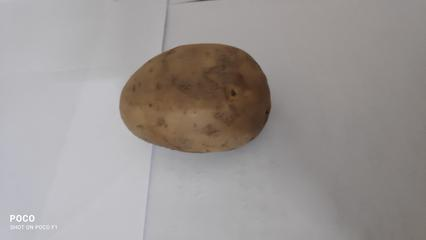potato: (120, 38, 289, 160)
